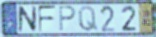2: (99, 5, 117, 33), (120, 4, 138, 32)
F: (37, 4, 57, 34)
N: (18, 5, 38, 33)
P: (58, 5, 78, 33)
Q: (77, 5, 99, 33)
